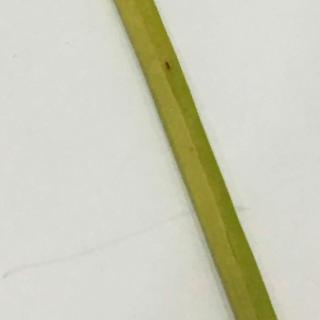bercak-Cokelat: (158, 52, 172, 78)
